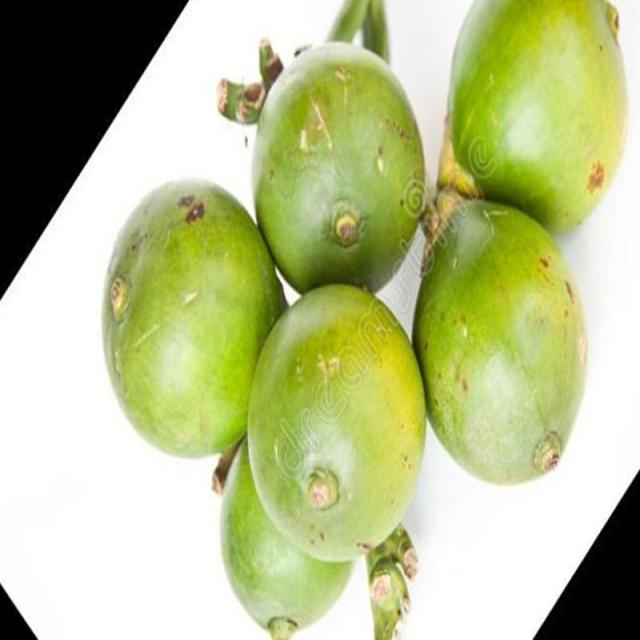good: (226, 284, 427, 628), (100, 178, 290, 460), (411, 200, 590, 488), (254, 41, 429, 298), (445, 0, 630, 237)
